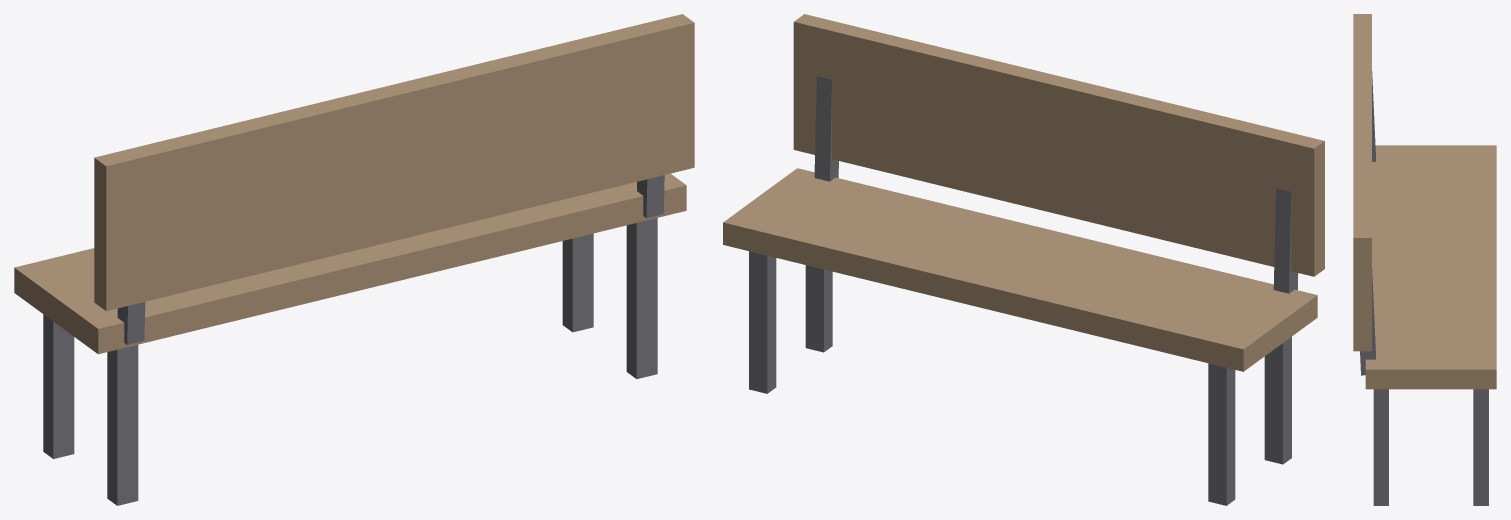
The model's file is bench.glb.
3 renders of one model, left to right at view 1: azimuth 30°, elevation 25°; view 2: azimuth 150°, elevation 25°; view 3: azimuth 270°, elevation 25°, orthographic. The views are drawn at different scales.
Parts seen in each view (by area): view 1: Bench; view 2: Bench; view 3: Bench.
Part boxes in pixels (x1,y1,x2,y2): Bench: (14,14,694,505); Bench: (723,14,1324,505); Bench: (1353,14,1496,505).
Bounding box in the file's own units: 1.7 × 0.98 × 0.46.
